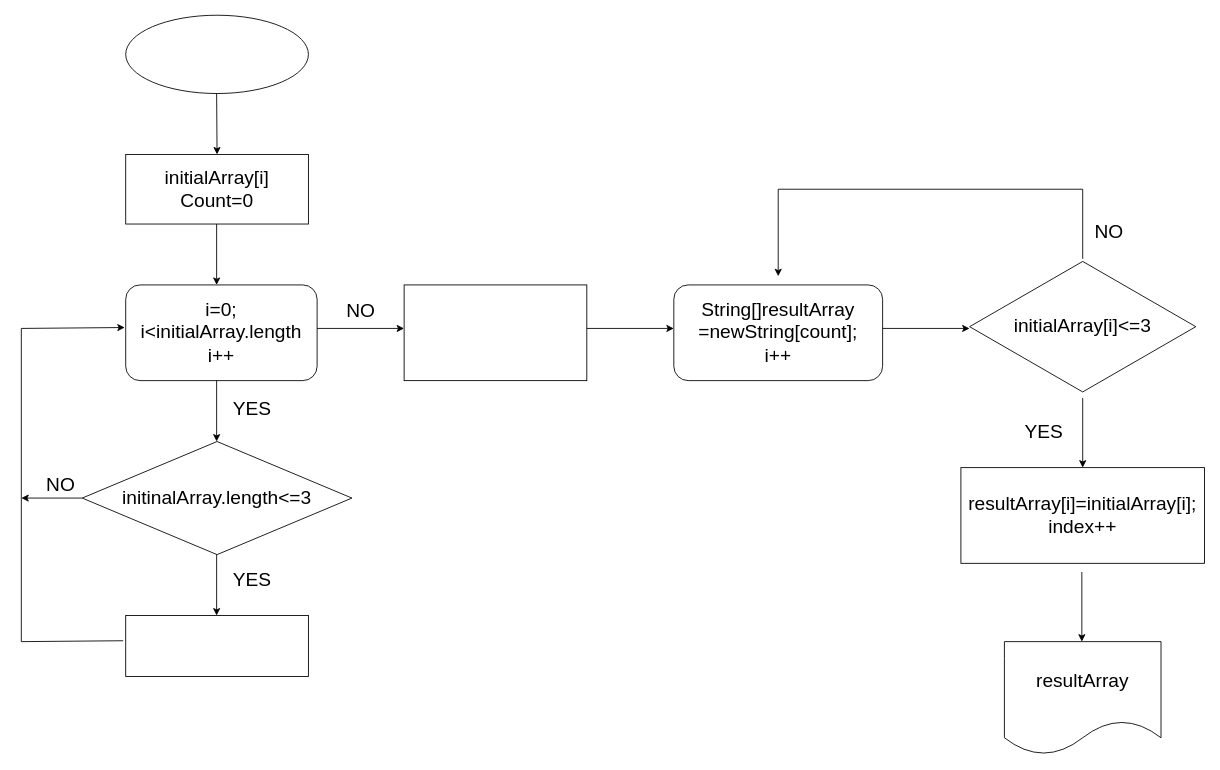
Some shapes in this 1220 by 770 pixel diagram are drawn without their labels. The shapes that lost their labels are listed below. From the top down, each one's centre as x and y in pixels, then its label:
At [216,54]: "START".
At [495,332]: "resultArray[count] index=0".
At [216,645]: "Count++".
